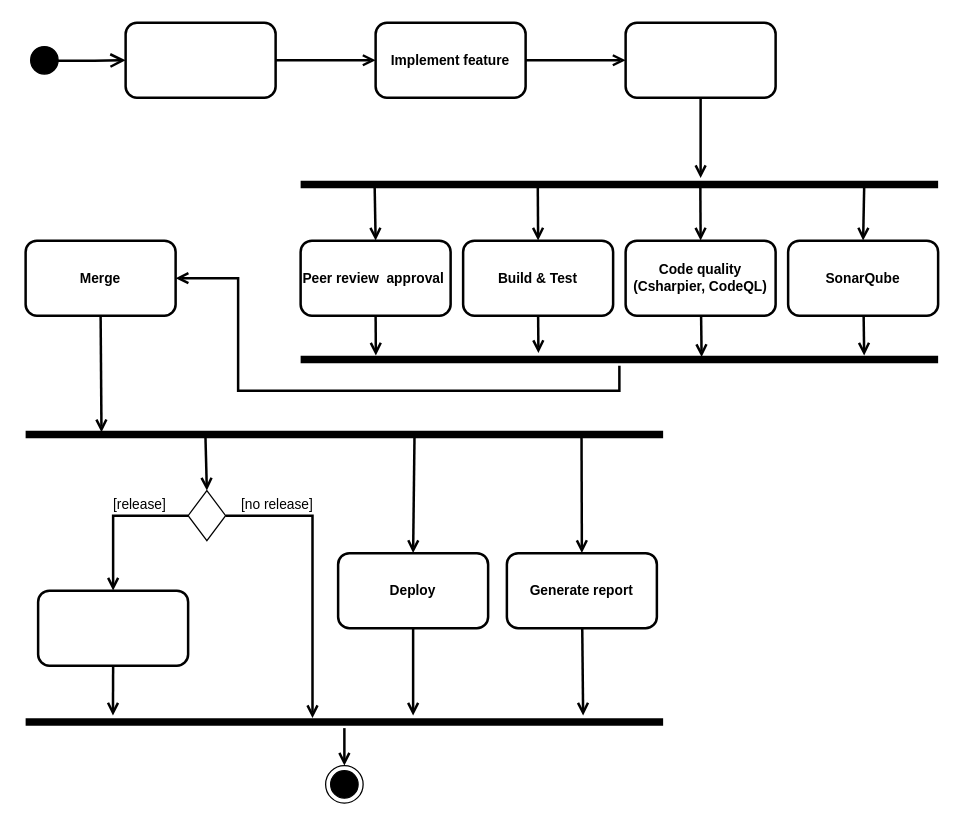
Image size: 963x825. Some labels were removed from this diagram. The centre of each missing label's shape, as x and y in pixels:
Auto Release: the point at 112,627
Create pull request: the point at 700,59
Create ticket: the point at 200,59
